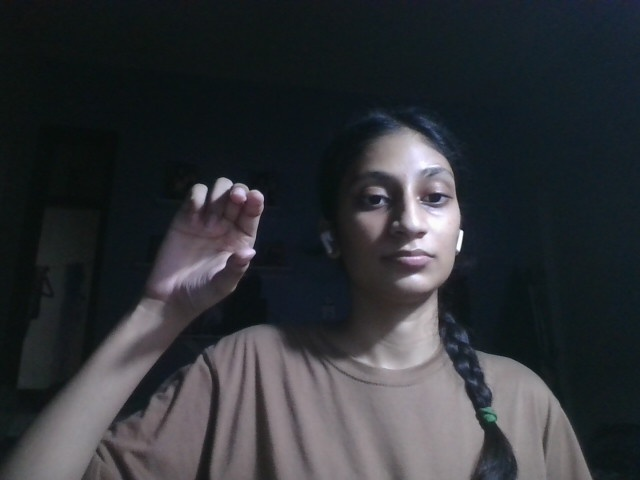no: (154, 180, 263, 306)
